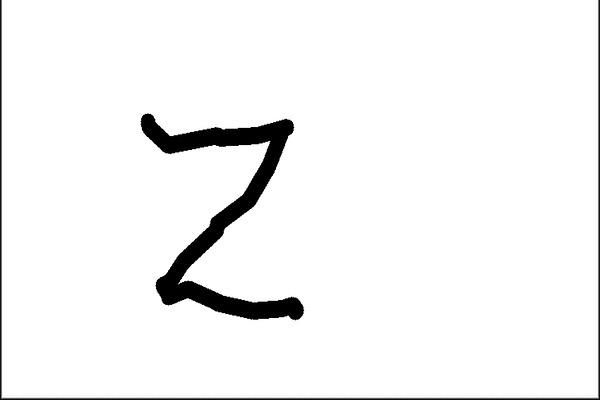Z: (123, 97, 317, 327)
